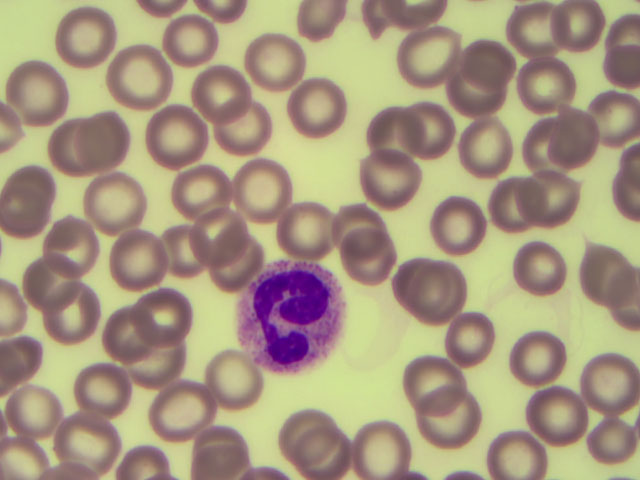RBC: (488, 416, 551, 480), (299, 416, 362, 480), (190, 416, 253, 480), (54, 3, 117, 66), (1, 58, 64, 121), (74, 108, 137, 171), (45, 114, 108, 177), (3, 168, 66, 231), (78, 164, 141, 227), (38, 212, 101, 275), (24, 241, 87, 304), (40, 280, 103, 343), (74, 358, 137, 421), (57, 416, 120, 479), (119, 336, 182, 399), (93, 295, 156, 358), (130, 286, 193, 349), (110, 228, 173, 291), (147, 224, 210, 287), (185, 201, 248, 264), (168, 163, 231, 226), (203, 218, 266, 281), (147, 117, 210, 180), (109, 42, 172, 105), (160, 10, 223, 73), (182, 51, 245, 114), (213, 94, 276, 157), (245, 31, 308, 94), (293, 80, 356, 143), (359, 94, 422, 157), (389, 95, 452, 158), (276, 189, 339, 252), (235, 155, 298, 218), (322, 193, 385, 256), (337, 225, 400, 288), (400, 259, 463, 322), (428, 193, 491, 256), (477, 176, 540, 239), (518, 170, 581, 233), (449, 113, 512, 176), (445, 71, 508, 134), (450, 38, 513, 101), (405, 24, 468, 87), (496, 1, 559, 64), (513, 45, 576, 108), (539, 113, 602, 176), (517, 111, 580, 174), (577, 92, 640, 155), (577, 247, 640, 310), (504, 235, 567, 298), (506, 325, 569, 388), (526, 380, 589, 443), (577, 353, 640, 416), (429, 394, 492, 457), (402, 354, 465, 417), (444, 309, 507, 372), (352, 413, 415, 476), (265, 405, 328, 468), (145, 383, 208, 446), (200, 346, 263, 409), (1, 375, 63, 438), (357, 154, 416, 208)
WBC: (236, 262, 342, 373)
